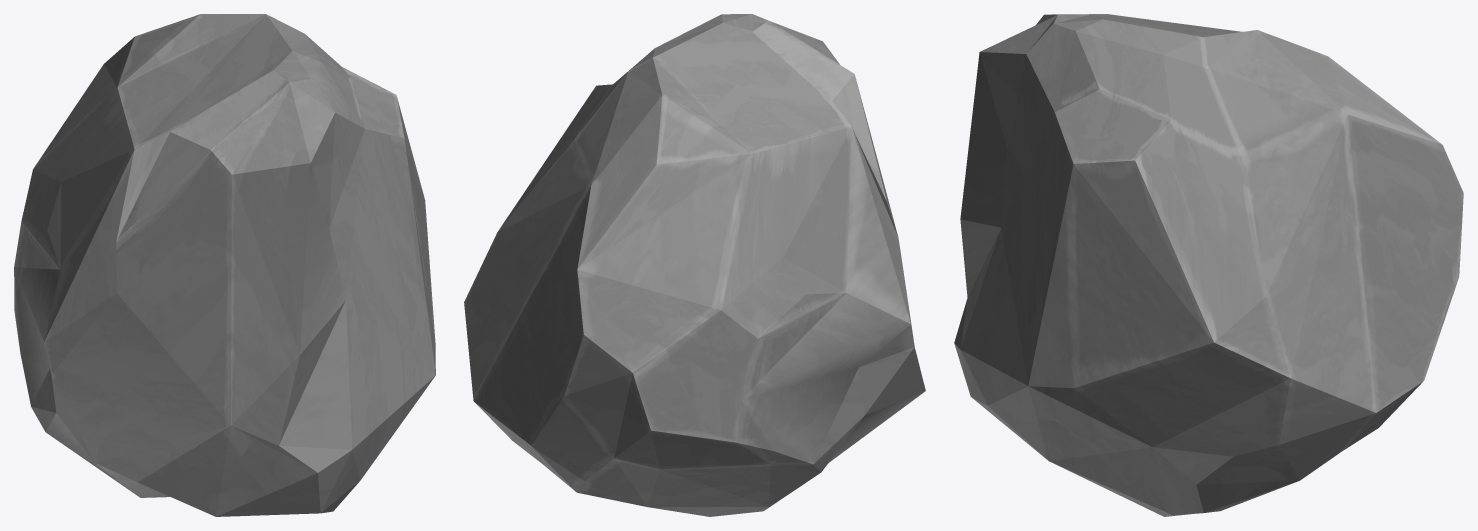
File: Model_Rock5.fbx
3 views of the same model, side by side, from view 1: azimuth 30°, elevation 25°; view 2: azimuth 150°, elevation 25°; view 3: azimuth 270°, elevation 25° (orthographic). The views are drawn at different scales.
Parts seen in each view (by area): view 1: Icosphere.004; view 2: Icosphere.004; view 3: Icosphere.004.
Part boxes in pixels (x1=…): Icosphere.004: x1=14, y1=14, x2=435, y2=516; Icosphere.004: x1=464, y1=14, x2=925, y2=516; Icosphere.004: x1=954, y1=14, x2=1463, y2=516.
Bounding box in the file's own units: 362 × 403 × 393.
